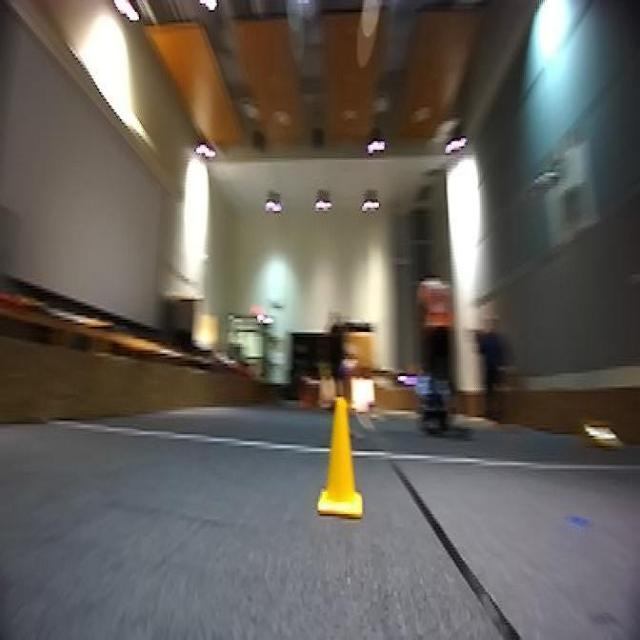frc_cone: (314, 397, 366, 518), (578, 422, 617, 456)
